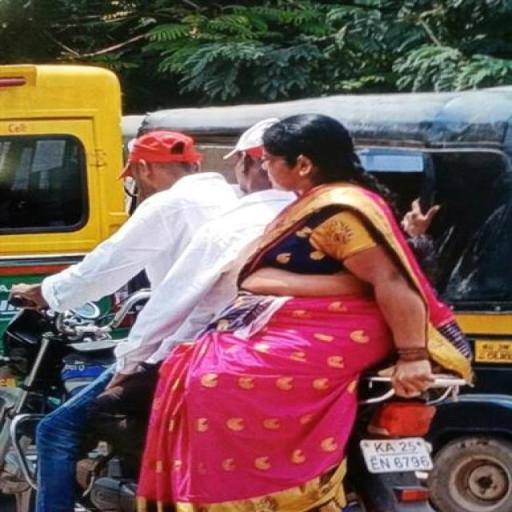tripple riding: (6, 110, 476, 460)
